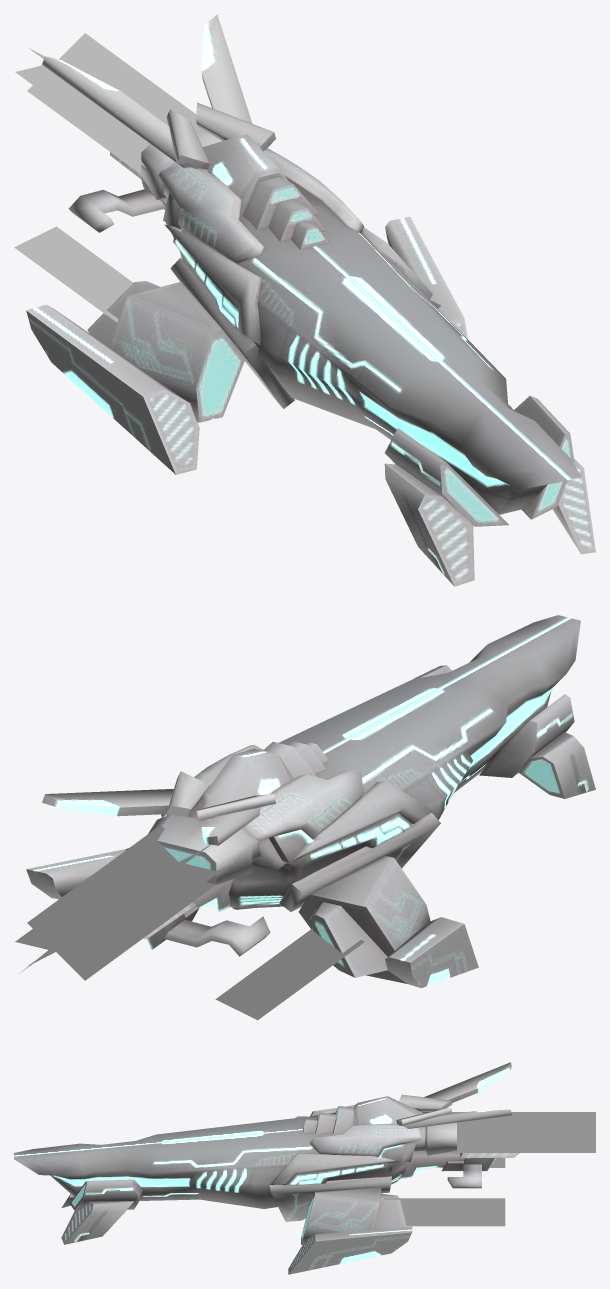
3 renders of one model, top to bottom at view 1: azimuth 30°, elevation 25°; view 2: azimuth 150°, elevation 25°; view 3: azimuth 270°, elevation 25°, orthographic. The views are drawn at different scales.
Parts seen in each view (by area): view 1: space-unit-lancer; view 2: space-unit-lancer; view 3: space-unit-lancer.
Part boxes in pixels (x1,y1,x2,y2): space-unit-lancer: (14, 14, 595, 586); space-unit-lancer: (15, 615, 595, 1020); space-unit-lancer: (14, 1062, 595, 1274).
Bounding box in the file's own units: 58.39 × 37.65 × 135.
2 materials, 1 textured.
